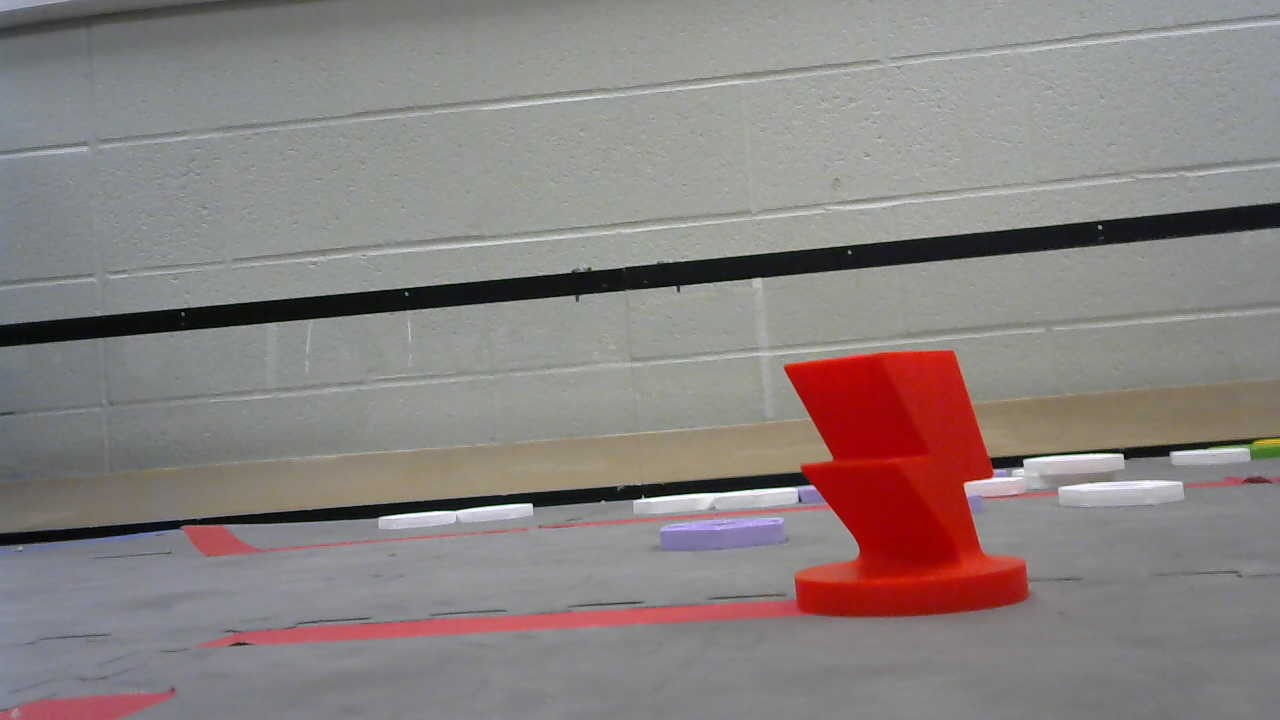redobject: (783, 346, 1031, 620)
